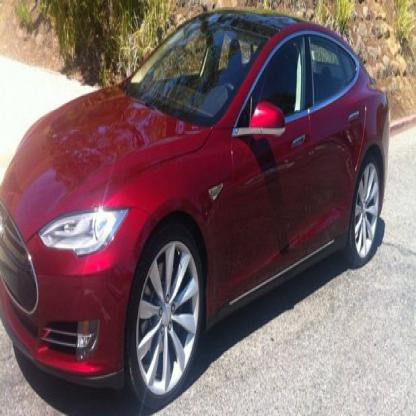Vehicle: (1, 10, 391, 413)
